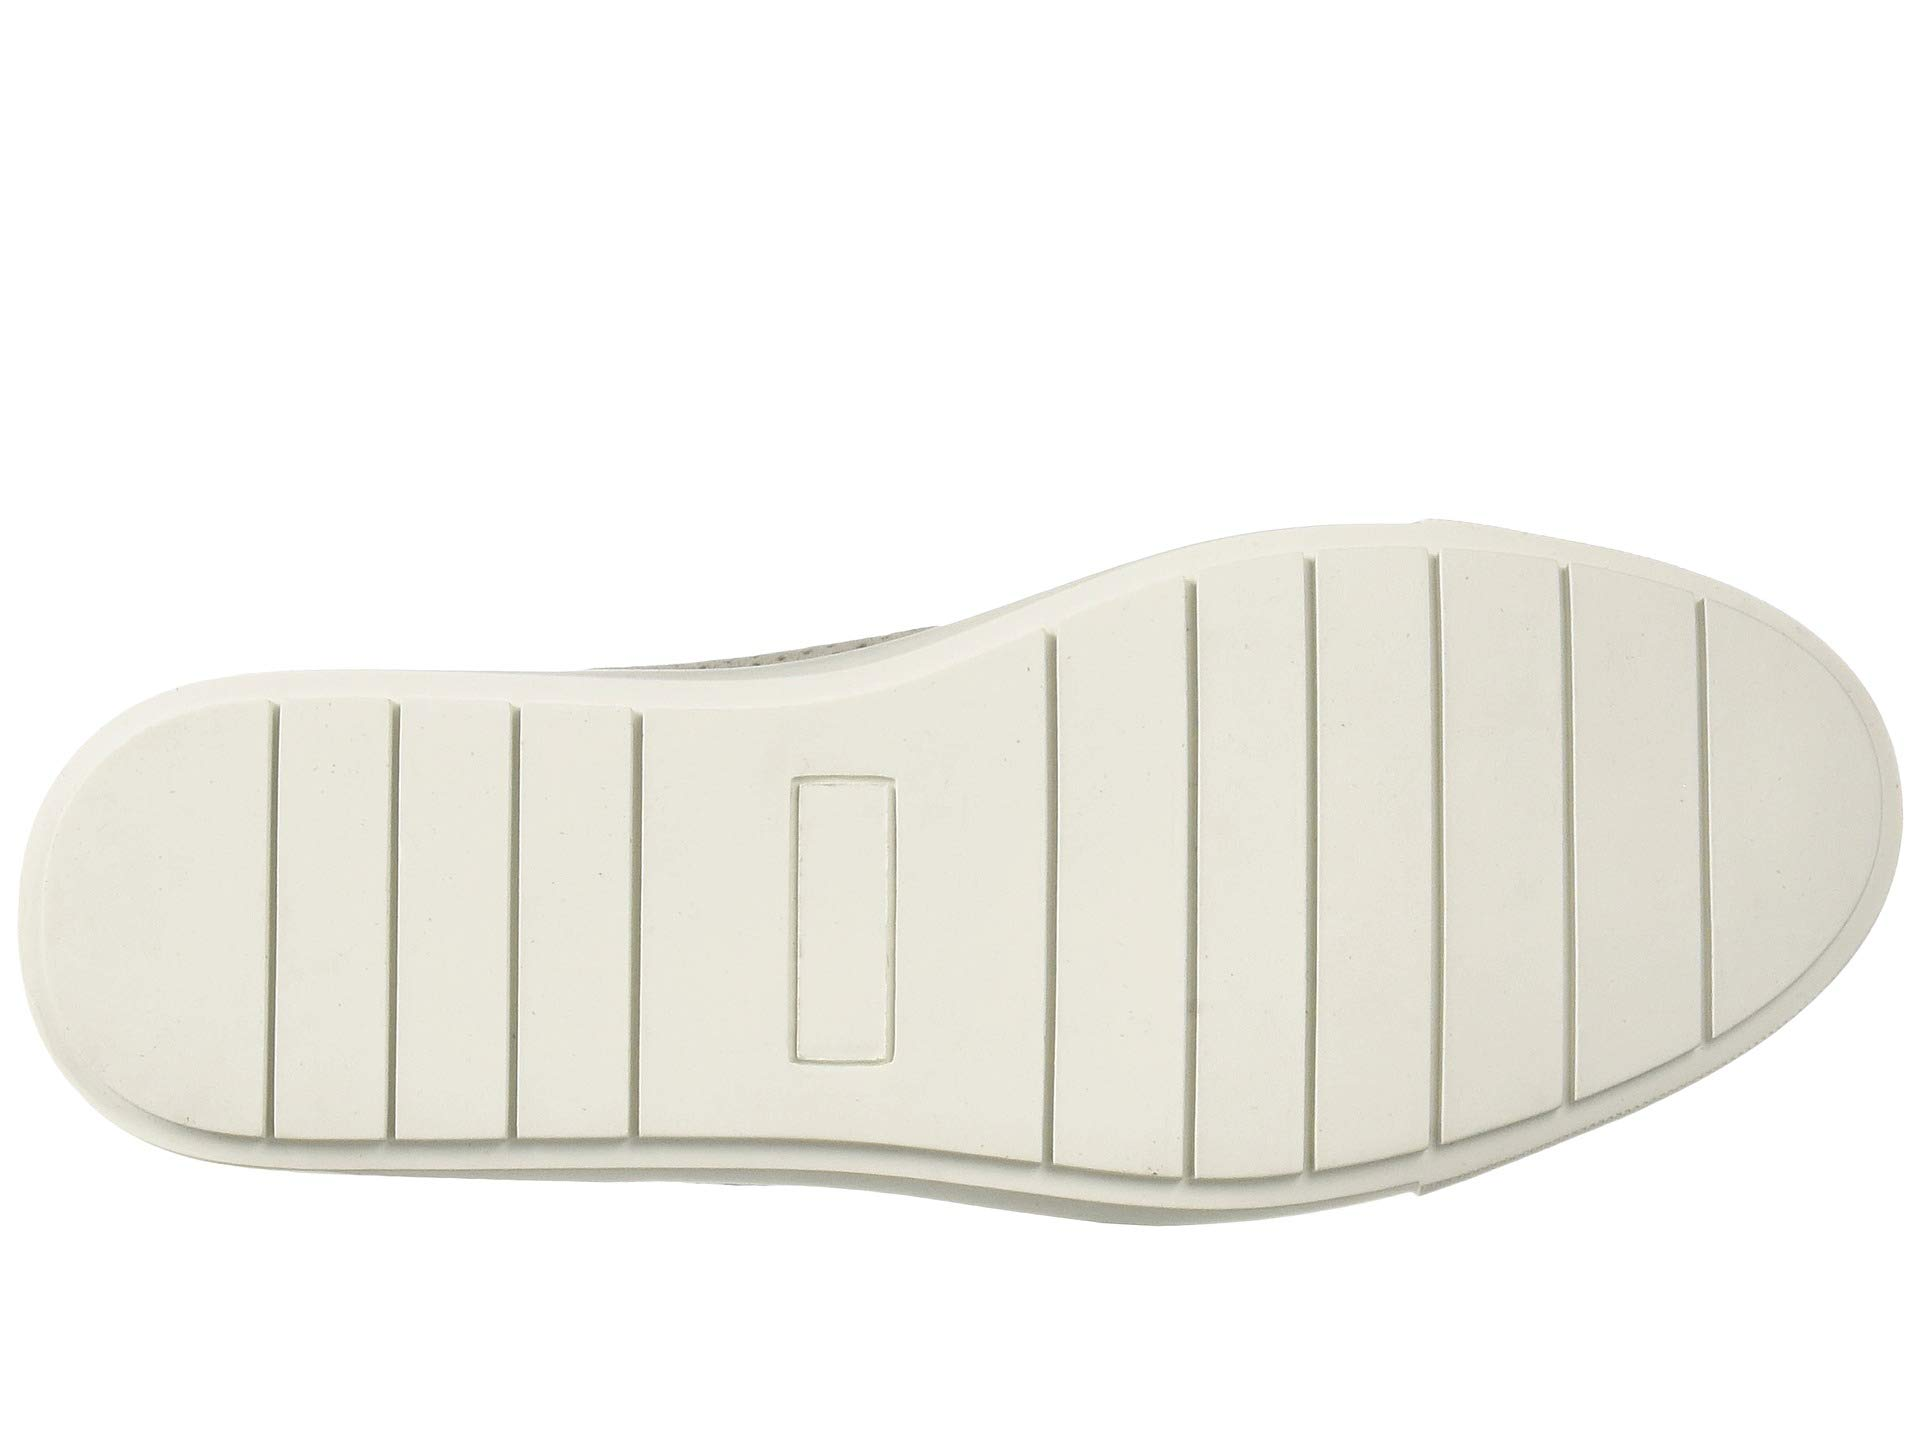line: (1160, 659, 1618, 1068)
quad: (667, 740, 1013, 1097)
